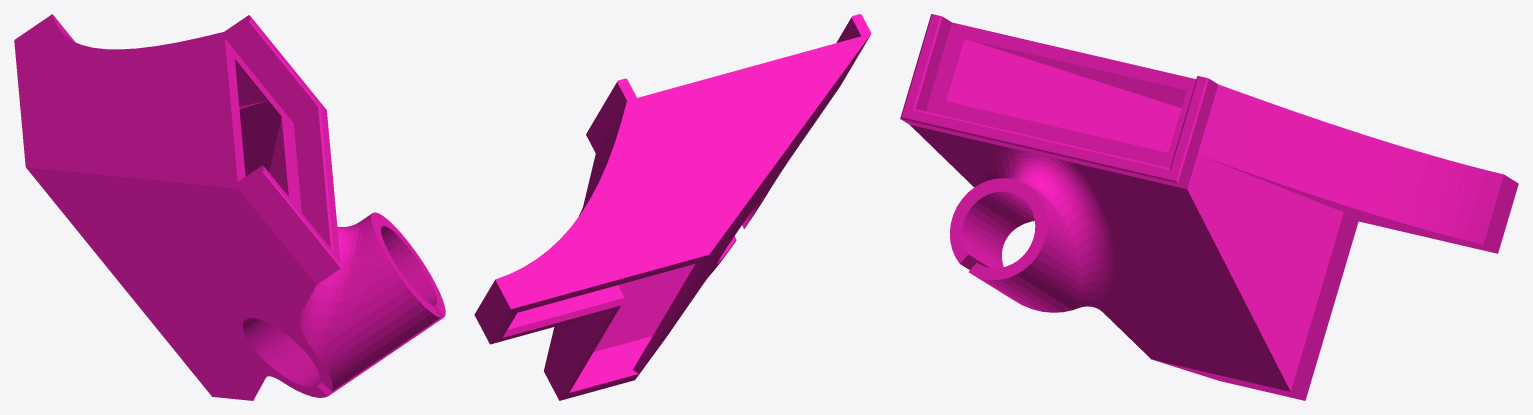
File: nozzle1_5.dae
3 views of the same model, side by side, from view 1: azimuth 30°, elevation 25°; view 2: azimuth 150°, elevation 25°; view 3: azimuth 270°, elevation 25° (orthographic). The views are drawn at different scales.
Visible parts, largest first — view 1: nozzle1_019; view 2: nozzle1_019; view 3: nozzle1_019.
Part boxes in pixels (x1,y1,x2,y2): nozzle1_019: (14, 14, 445, 400); nozzle1_019: (474, 14, 871, 400); nozzle1_019: (900, 14, 1518, 400).
Size of the model in its own units: 0.0458 by 0.1215 by 0.069.
